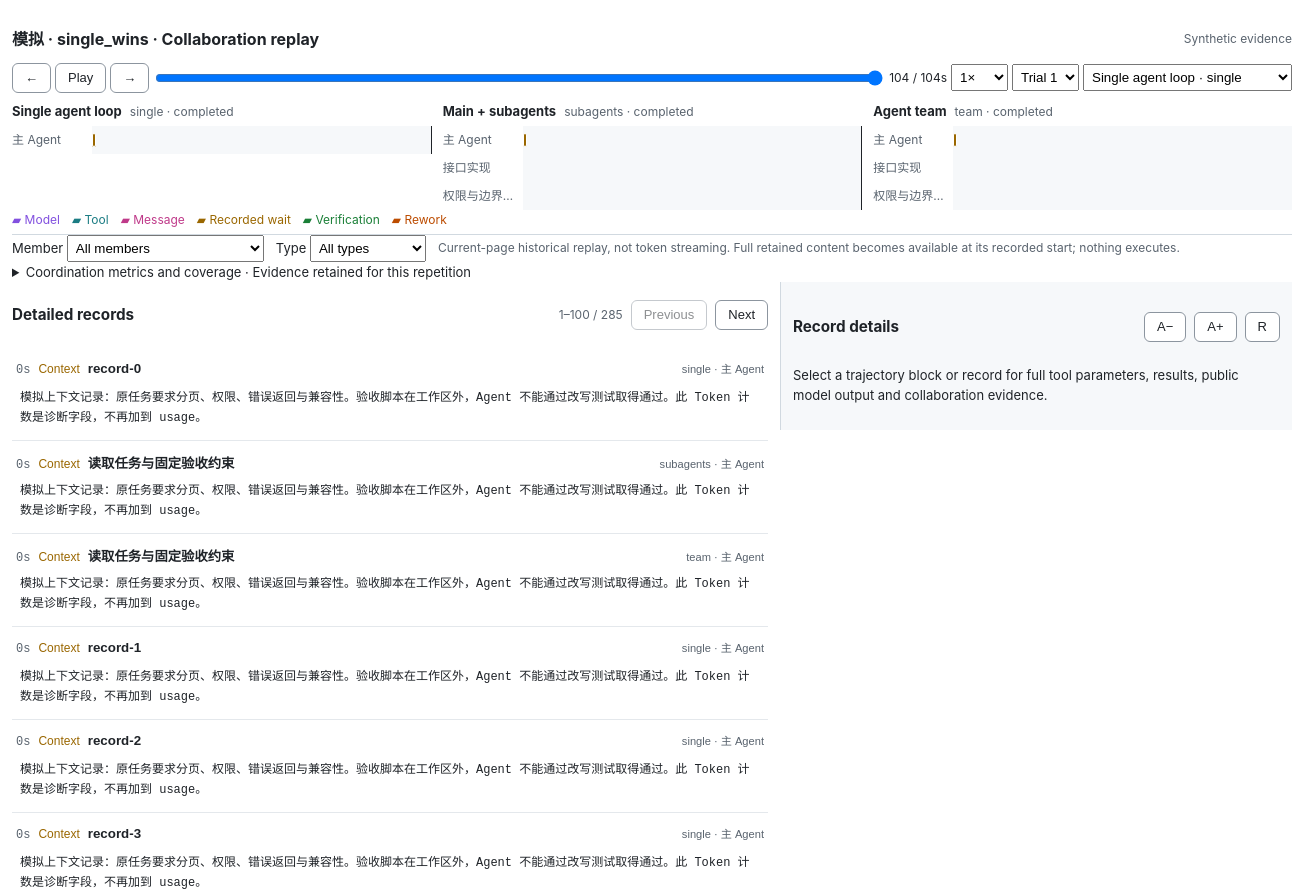
Test: bounds record and chart DOM to the same explicit 100-event page
The image size is (1304, 893).
Select "Single agent loop · single" in the dropdown named "Filter variant". click: (1188, 78)
box: [1083,64,1292,91]
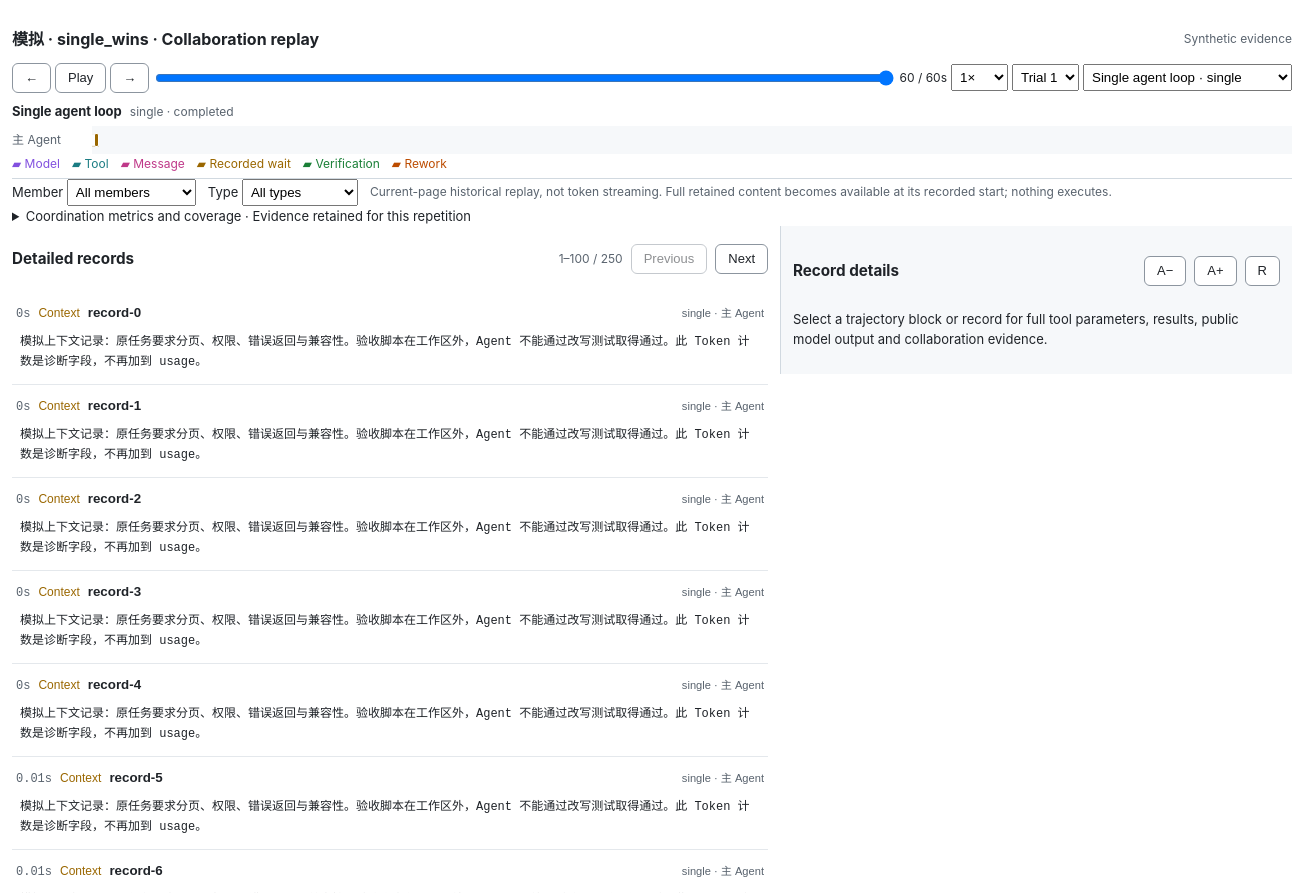
Click the button "Next". click: (742, 259)
box: [715,244,768,274]
(page scrolled)
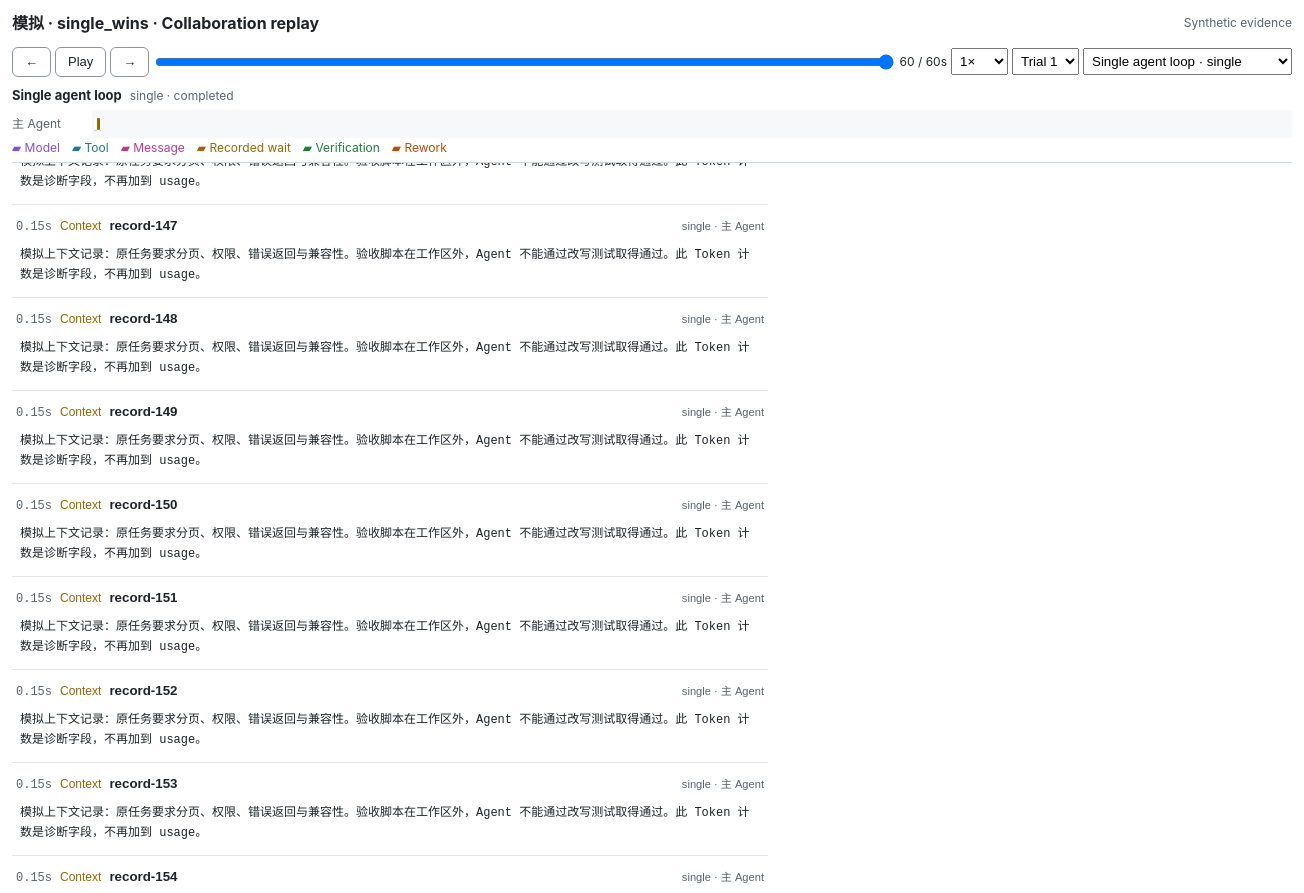
Expected: the button with class "team-exp-records" no longer shows "record-0"
